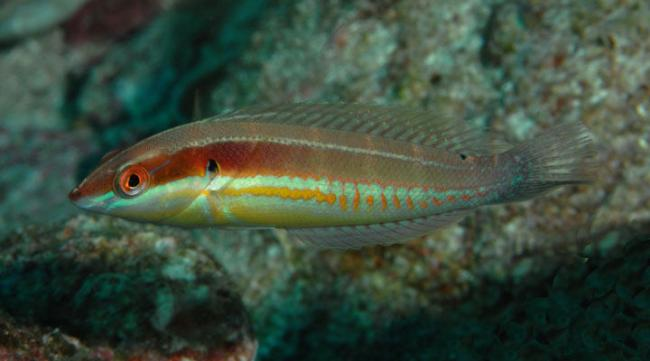fish: (69, 100, 598, 251)
